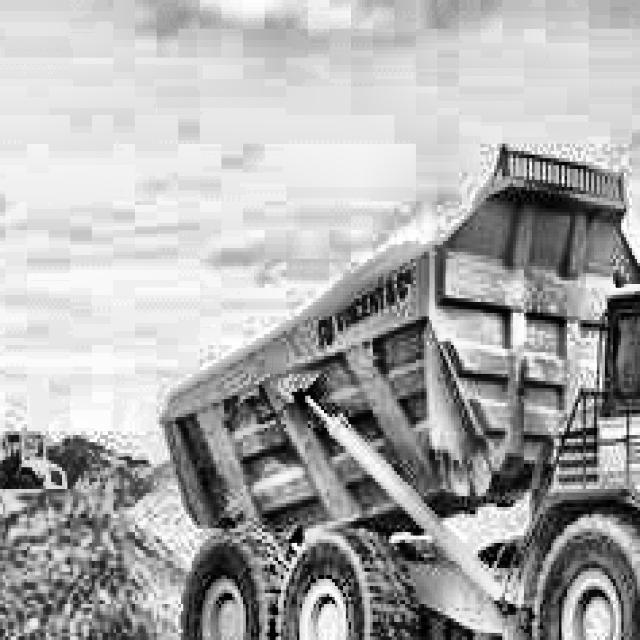dump_truck: (116, 93, 640, 640)
